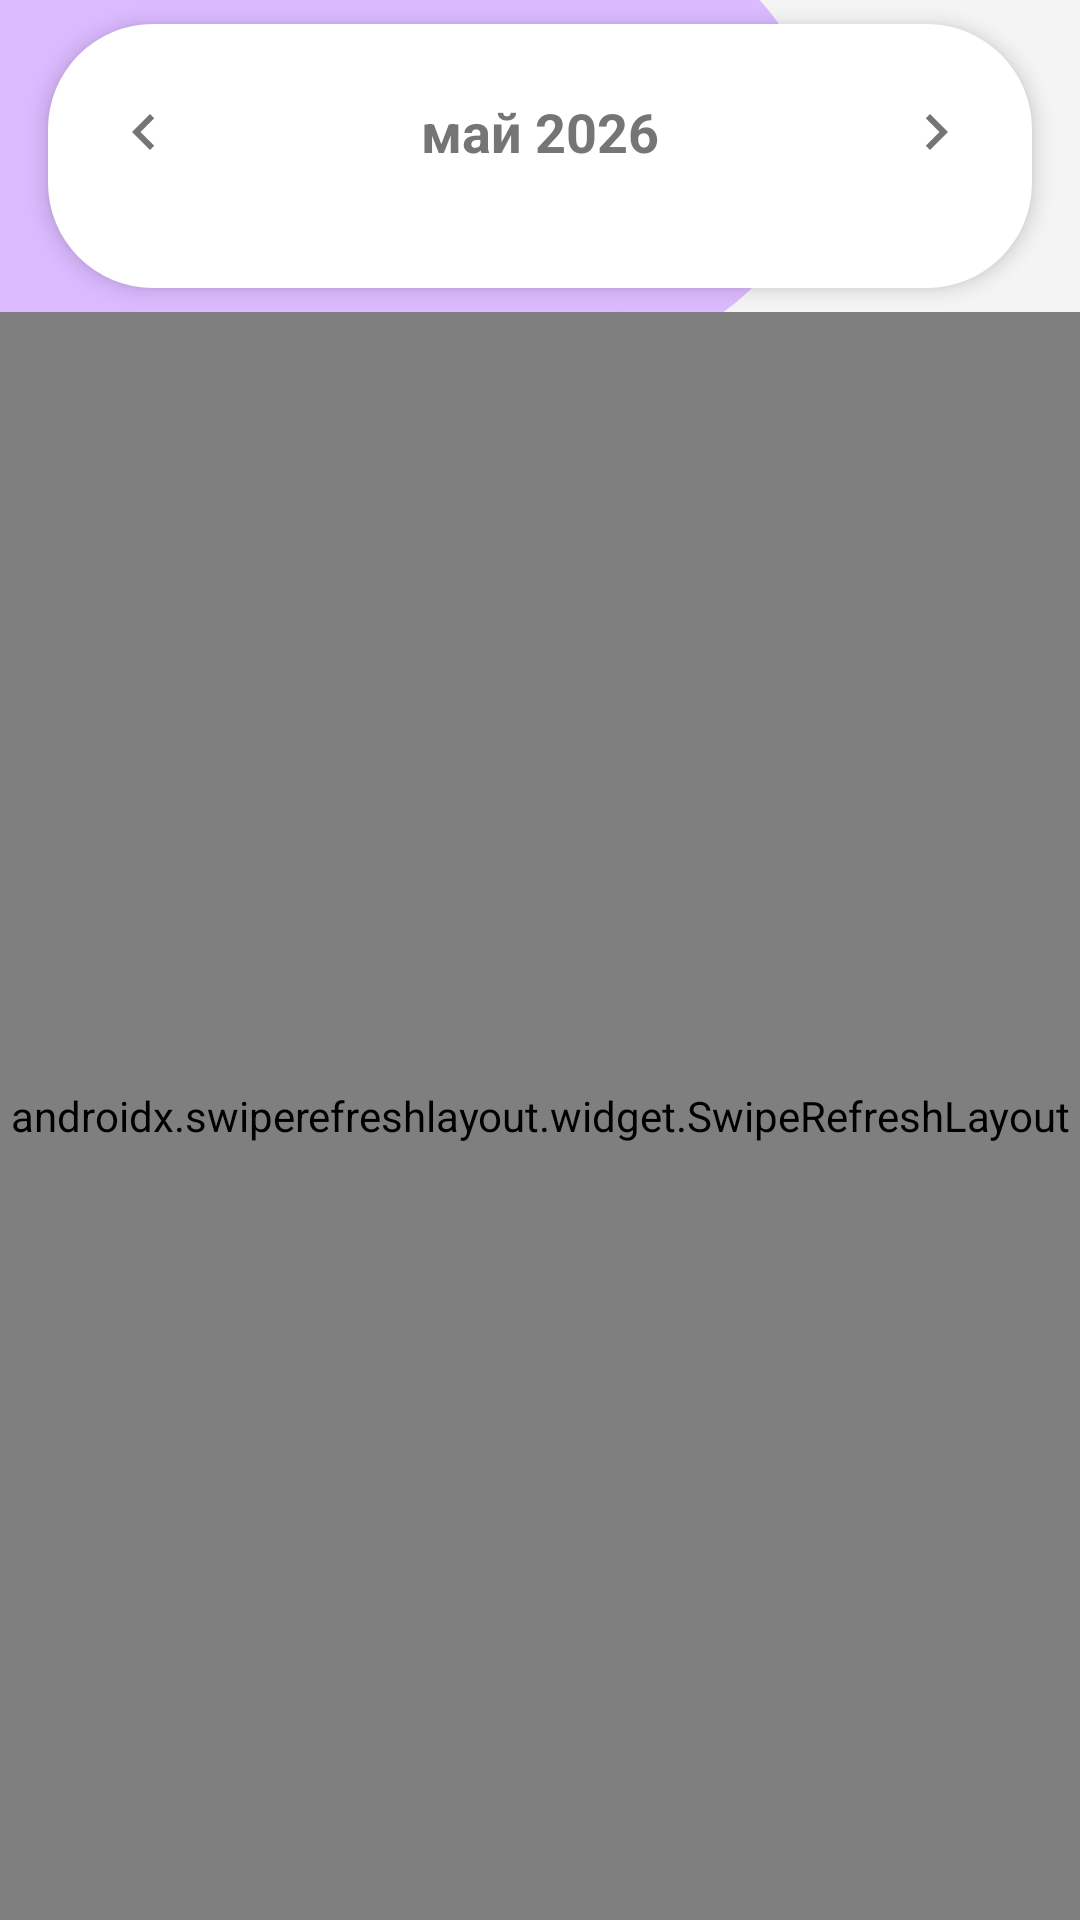

Icon click points for this 1080w x 1920h phone screenshot, format [x,y]:
Предыдущий месяц: [143,132]
Следующий месяц: [937,132]
